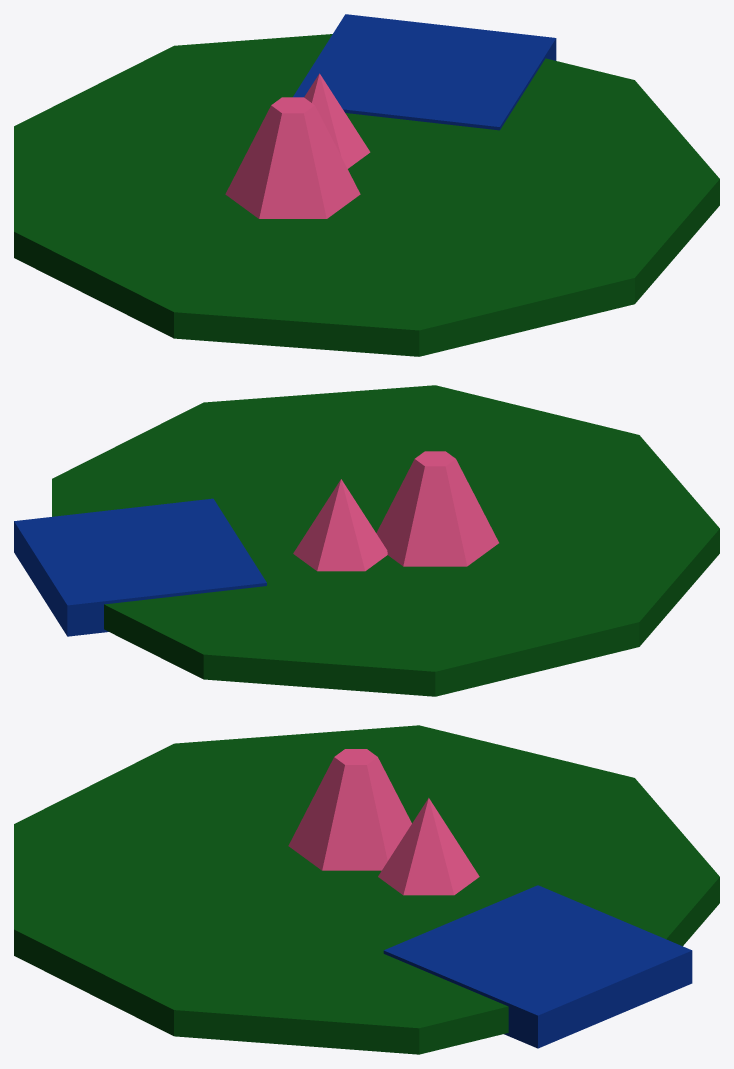
File: lily_pad.obj
3 renders of one model, top to bottom at view 1: azimuth 30°, elevation 25°; view 2: azimuth 150°, elevation 25°; view 3: azimuth 270°, elevation 25°, orthographic. The views are drawn at different scales.
Visible parts, largest first — view 1: lily_pad; view 2: lily_pad; view 3: lily_pad.
Part boxes in pixels (box(x1,y1,x2,y2)): lily_pad: box(14, 14, 719, 356); lily_pad: box(14, 385, 719, 696); lily_pad: box(14, 725, 719, 1054).
Bounding box in the file's own units: 0.9848 × 0.18 × 0.9698.
